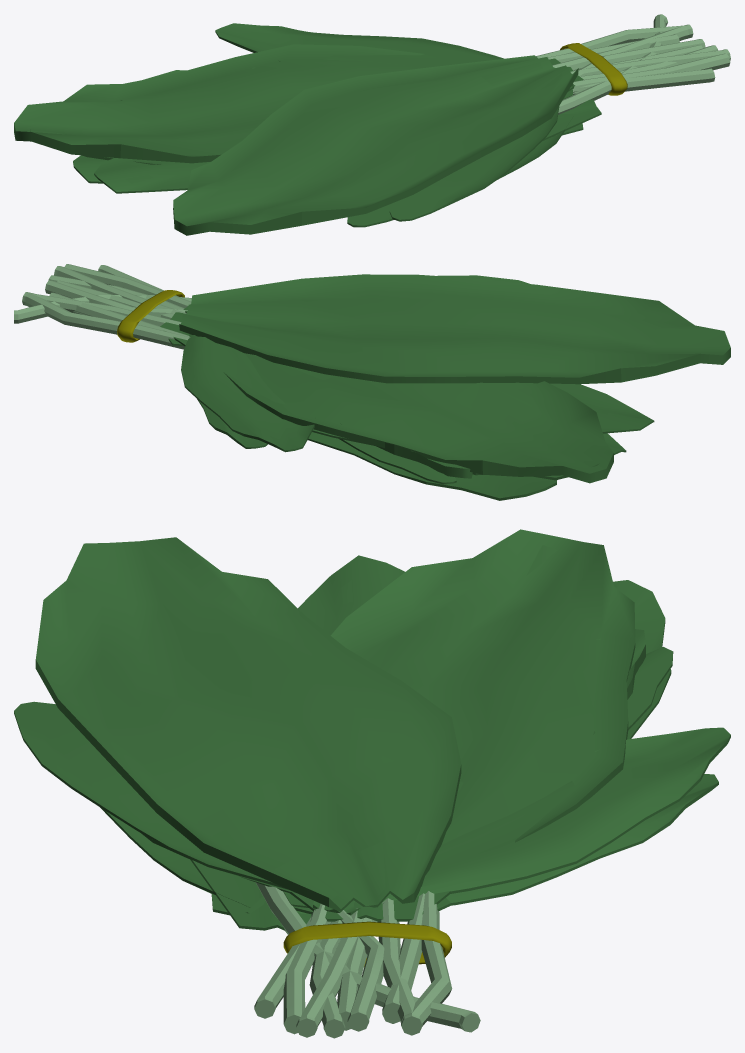
File: Spinach.fbx
3 views of the same model, one above another, from view 1: azimuth 30°, elevation 25°; view 2: azimuth 150°, elevation 25°; view 3: azimuth 270°, elevation 25° (orthographic). The views are drawn at different scales.
Parts seen in each view (by area): view 1: m_Spinach; view 2: m_Spinach; view 3: m_Spinach.
Boxes of the visible parts, bbox=[...] form: m_Spinach: bbox=[14, 14, 730, 235]; m_Spinach: bbox=[14, 264, 730, 500]; m_Spinach: bbox=[14, 529, 730, 1038].
Bounding box in the file's own units: 15.29 × 1.06 × 9.97.
